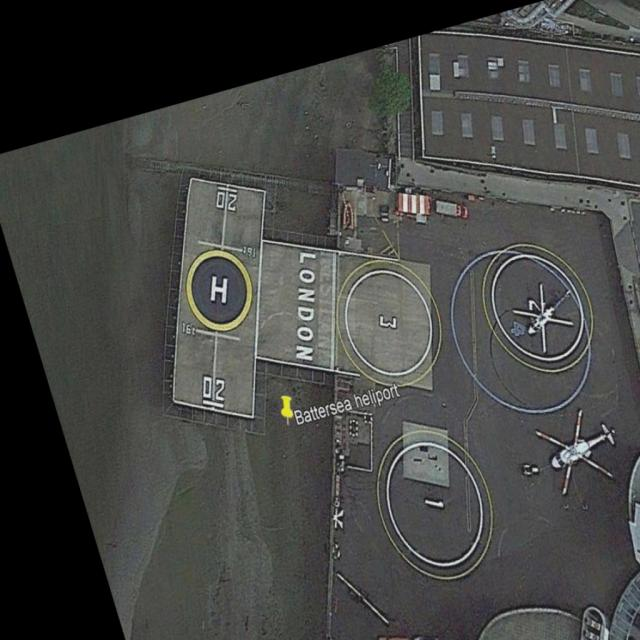helipad: (182, 246, 256, 334)
